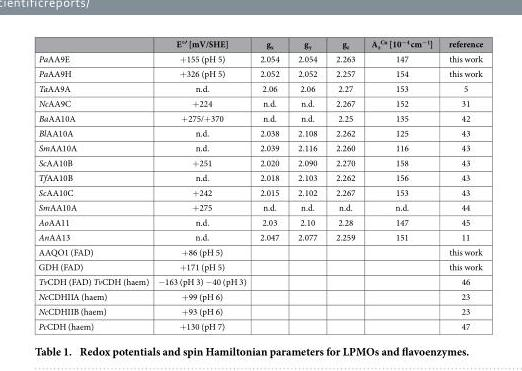table: (37, 37, 482, 331)
table column: (37, 37, 152, 331), (152, 37, 252, 331), (362, 37, 440, 331), (440, 37, 482, 331), (287, 37, 325, 331), (325, 37, 362, 331), (252, 37, 287, 331)
table column header: (37, 37, 482, 51)
table row: (37, 65, 482, 80), (37, 80, 482, 95), (37, 95, 482, 110), (37, 110, 482, 125), (37, 125, 482, 140), (37, 154, 482, 169), (37, 169, 482, 184), (37, 184, 482, 199), (37, 199, 482, 214), (37, 214, 482, 229), (37, 229, 482, 244), (37, 244, 482, 259), (37, 273, 482, 288), (37, 288, 482, 303), (37, 303, 482, 318), (37, 37, 482, 51), (37, 51, 482, 65), (37, 140, 482, 154), (37, 259, 482, 273), (37, 318, 482, 331)
